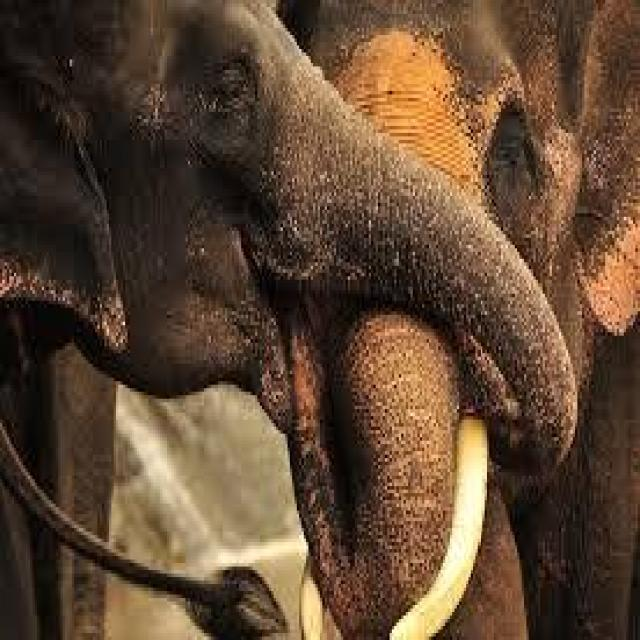Elephant: (0, 0, 577, 636)
